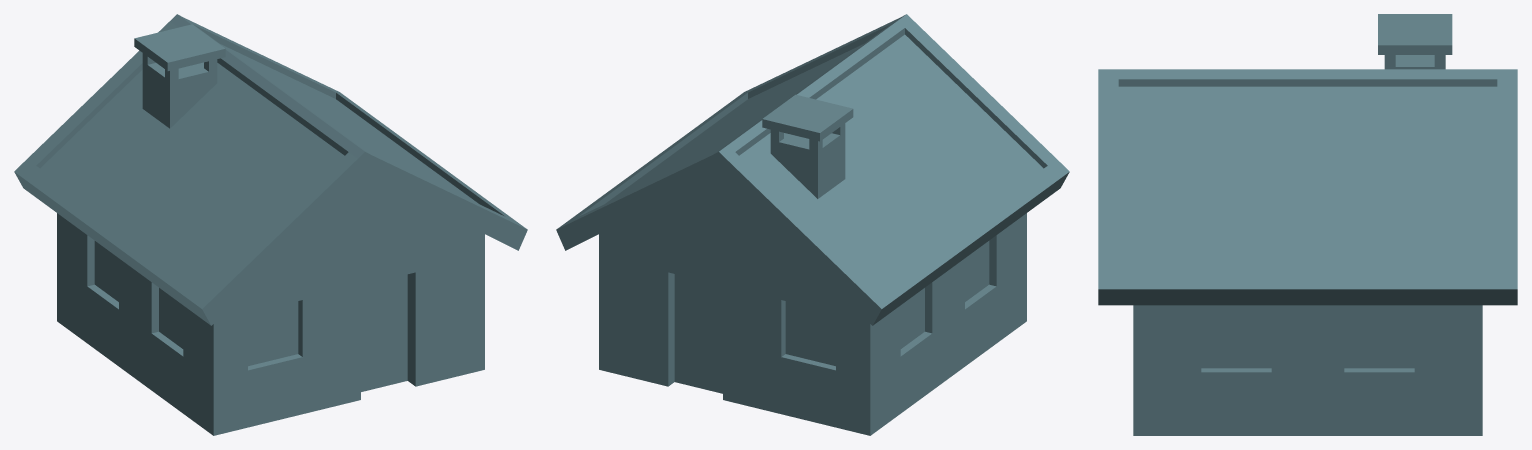
Rendered from Building1.fbx.
3 views of the same model, side by side, from view 1: azimuth 30°, elevation 25°; view 2: azimuth 150°, elevation 25°; view 3: azimuth 270°, elevation 25° (orthographic). The views are drawn at different scales.
Visible parts, largest first — view 1: Cube; view 2: Cube; view 3: Cube.
Part boxes in pixels (x1=…): Cube: x1=14, y1=14, x2=527, y2=435; Cube: x1=556, y1=14, x2=1069, y2=435; Cube: x1=1098, y1=14, x2=1517, y2=435.
Bounding box in the file's own units: 835 × 679 × 835.
